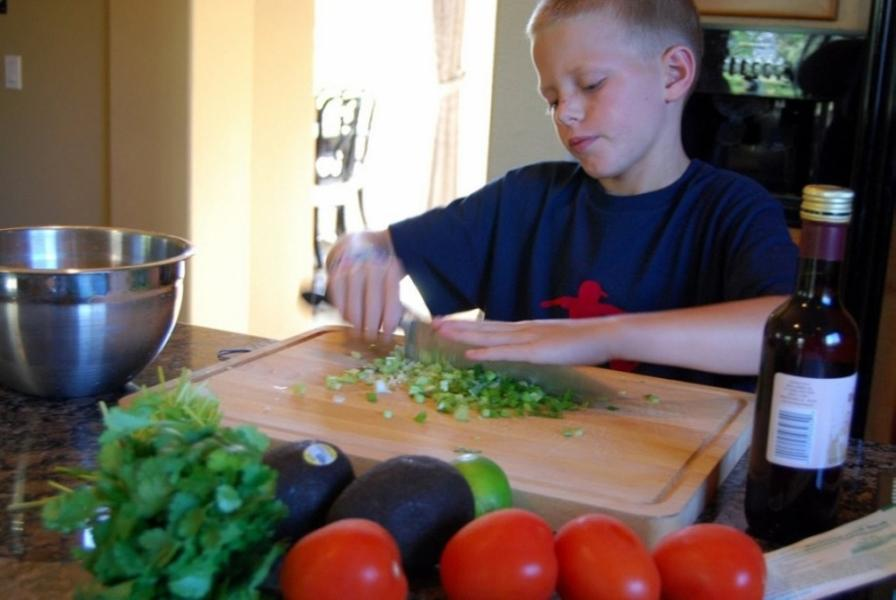person: (325, 3, 800, 394)
